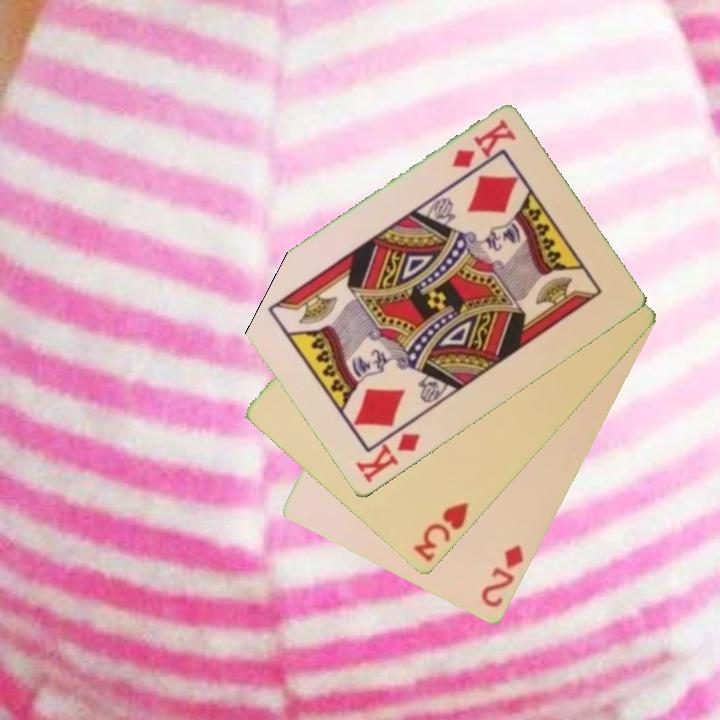2d: (477, 541, 527, 611)
3h: (410, 499, 472, 565)
Kd: (351, 429, 424, 487), (448, 116, 519, 172)
